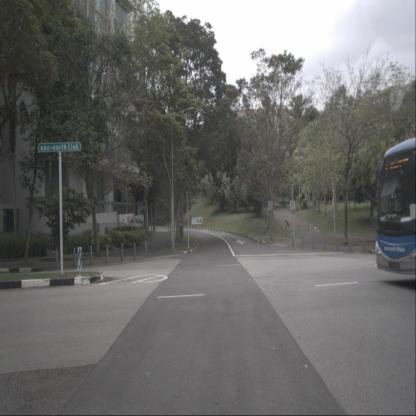vehicle-bicycle: (147, 231, 152, 250)
vehicle-bus-rigid: (374, 136, 416, 277)
